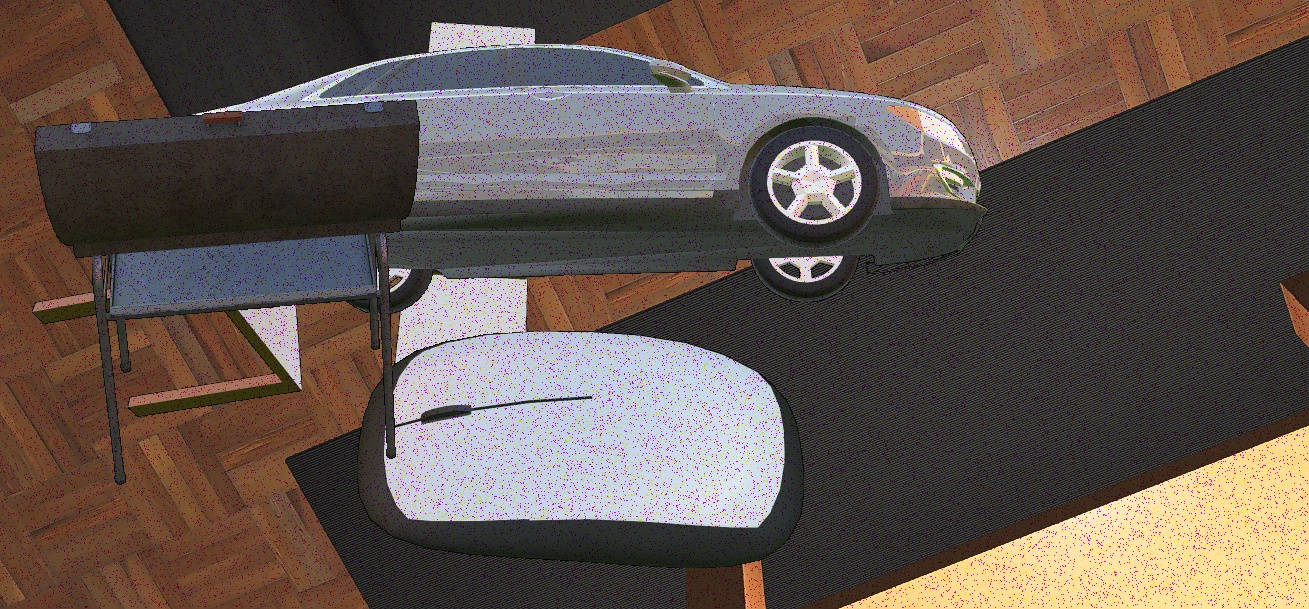barbacoa: (34, 99, 420, 486)
coche: (168, 43, 989, 315)
raton: (356, 330, 805, 569)
